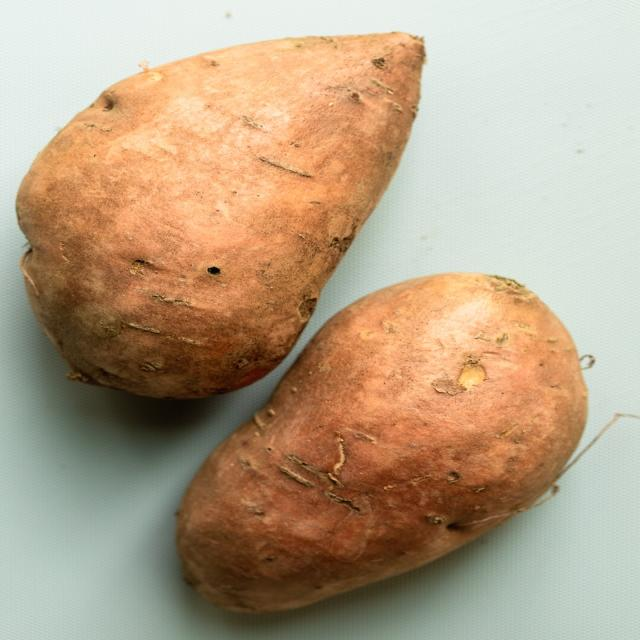potato: (16, 18, 433, 416), (178, 280, 590, 619)
